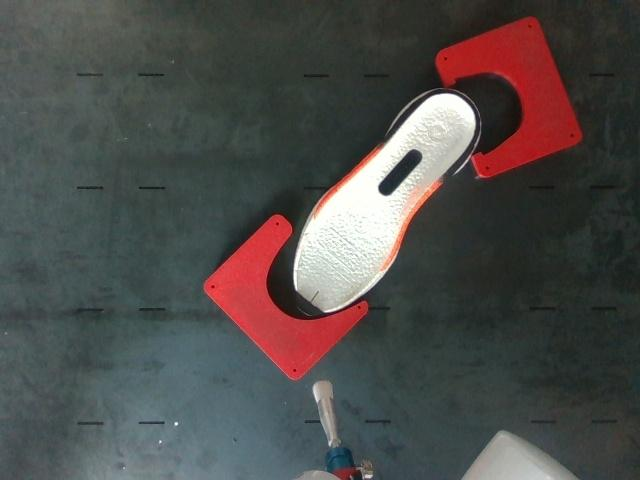shoes: (296, 93, 478, 314)
